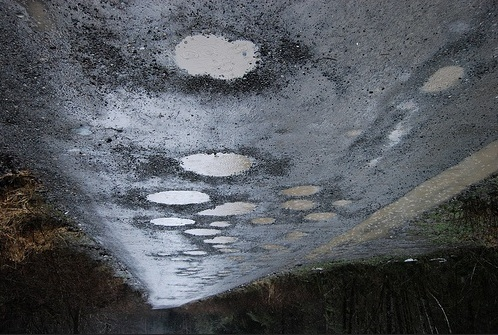pothole: (163, 25, 265, 91), (168, 149, 262, 182), (420, 62, 475, 97), (201, 197, 259, 219), (146, 190, 209, 206), (143, 215, 194, 228), (280, 183, 321, 198), (243, 215, 279, 229), (280, 199, 320, 210), (180, 228, 221, 238), (279, 228, 307, 242), (200, 234, 238, 243), (207, 217, 232, 230), (301, 213, 340, 221), (179, 248, 208, 258), (329, 198, 357, 208), (222, 254, 248, 264), (177, 266, 208, 272), (167, 257, 189, 265), (251, 257, 270, 265), (261, 243, 285, 249), (219, 269, 231, 277), (212, 243, 230, 248), (146, 252, 171, 255), (179, 271, 199, 274)
